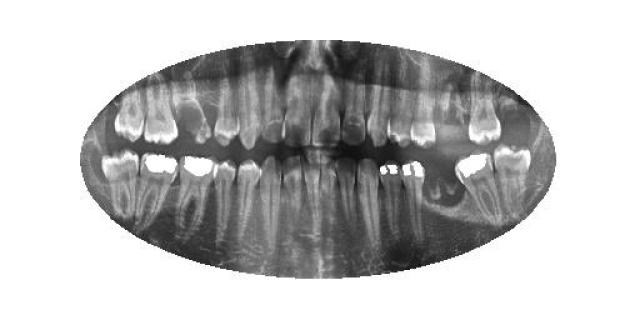Cavity: (168, 71, 212, 144), (438, 82, 467, 130)
Fillings: (453, 152, 502, 224), (135, 154, 177, 228), (176, 154, 216, 228), (403, 156, 428, 225), (380, 160, 399, 225)
